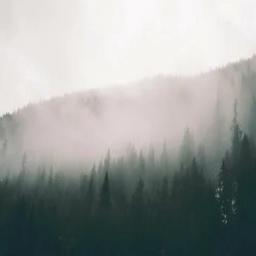Low smoke: (5, 0, 256, 184)
